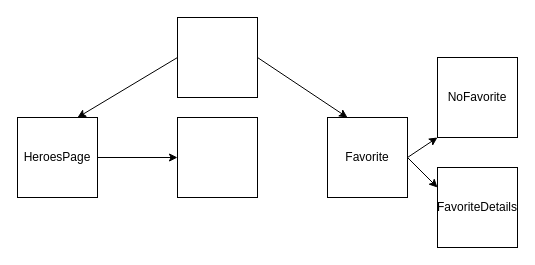
This 535x265 diagram has some shape labels left out. The shapes that lost their labels are listed below. From the top down, each one's box as (x1, y1, x2, y2) in pixels, then its label:
(176, 16, 258, 98): HeroesApp
(176, 116, 258, 198): HeroesDetails
